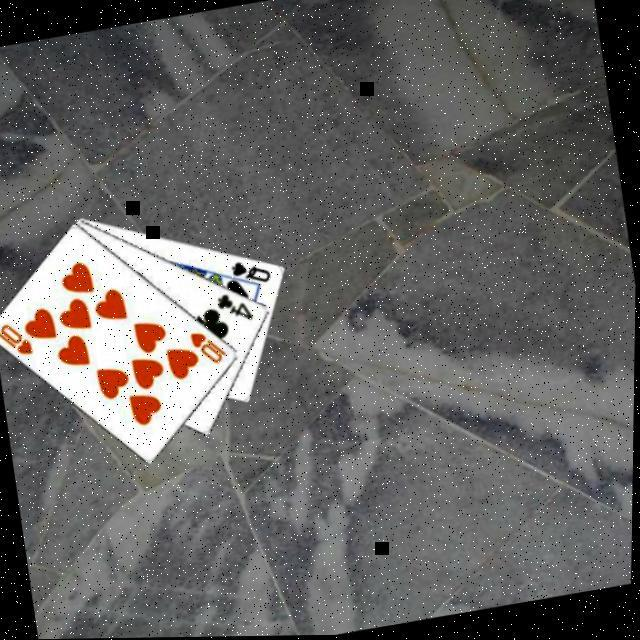10H: (185, 327, 231, 374), (0, 318, 36, 364)
4C: (212, 289, 256, 332)
QS: (226, 256, 274, 294)
